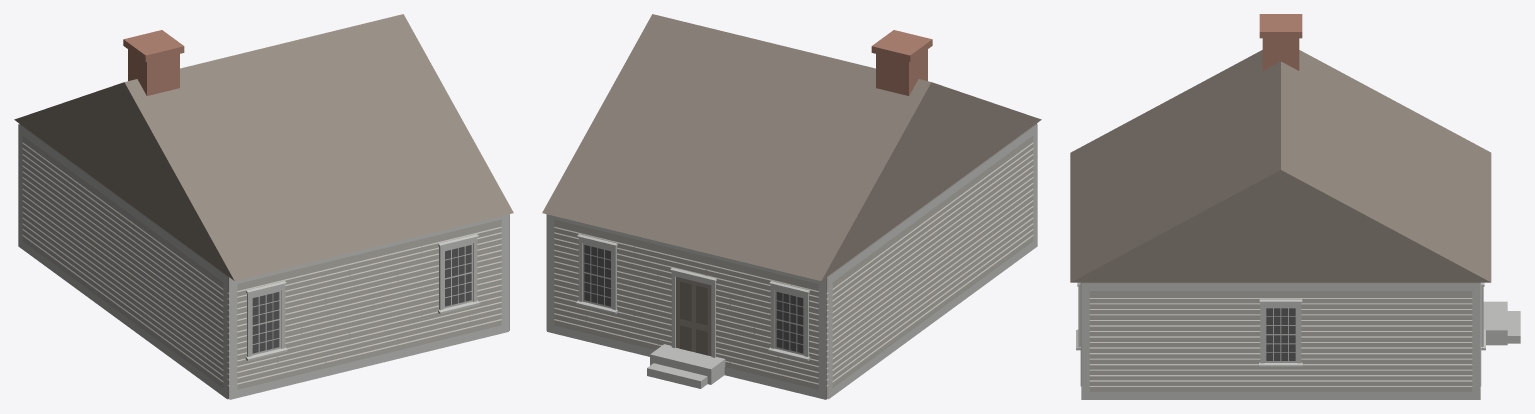
The model's file is recon_1835_north_d5_092__inferred_1835.glb.
3 renders of one model, left to right at view 1: azimuth 30°, elevation 25°; view 2: azimuth 150°, elevation 25°; view 3: azimuth 270°, elevation 25°, orthographic. The views are drawn at different scales.
Visible parts, largest first — view 1: recon_1835_north_d5_092__inferred_1835; view 2: recon_1835_north_d5_092__inferred_1835; view 3: recon_1835_north_d5_092__inferred_1835.
Part boxes in pixels (box(x1,y1,x2,y2)): recon_1835_north_d5_092__inferred_1835: box(14, 14, 513, 399); recon_1835_north_d5_092__inferred_1835: box(542, 14, 1041, 399); recon_1835_north_d5_092__inferred_1835: box(1070, 14, 1520, 399).
Size of the model in its own units: 7.24 by 6.62 by 10.37.
